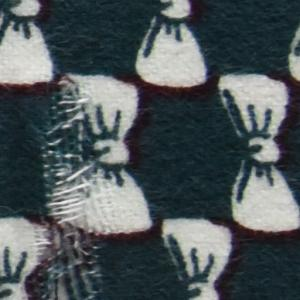Damage: (35, 68, 111, 300)
